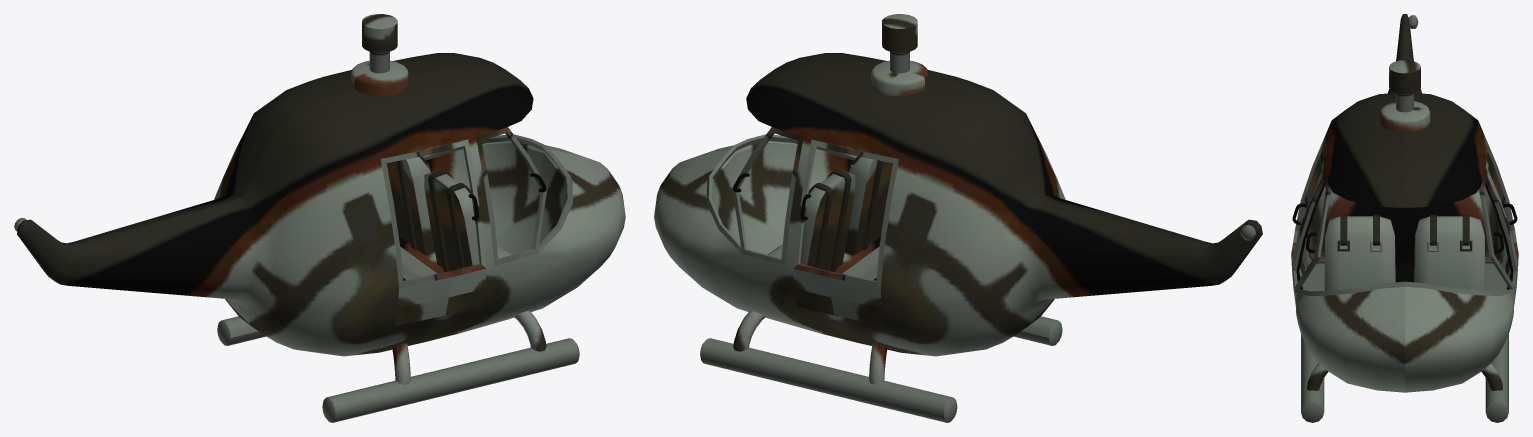
File: gyro_heli.FBX
3 renders of one model, left to right at view 1: azimuth 30°, elevation 25°; view 2: azimuth 150°, elevation 25°; view 3: azimuth 270°, elevation 25°, orthographic. The views are drawn at different scales.
Parts seen in each view (by area): view 1: Mesh_0039; view 2: Mesh_0039; view 3: Mesh_0039.
Boxes of the visible parts, x1,y1,x2,y2 form: Mesh_0039: (14,14,625,422); Mesh_0039: (654,14,1262,422); Mesh_0039: (1291,14,1518,422).
Size of the model in its own units: 1042 by 570 by 394.
